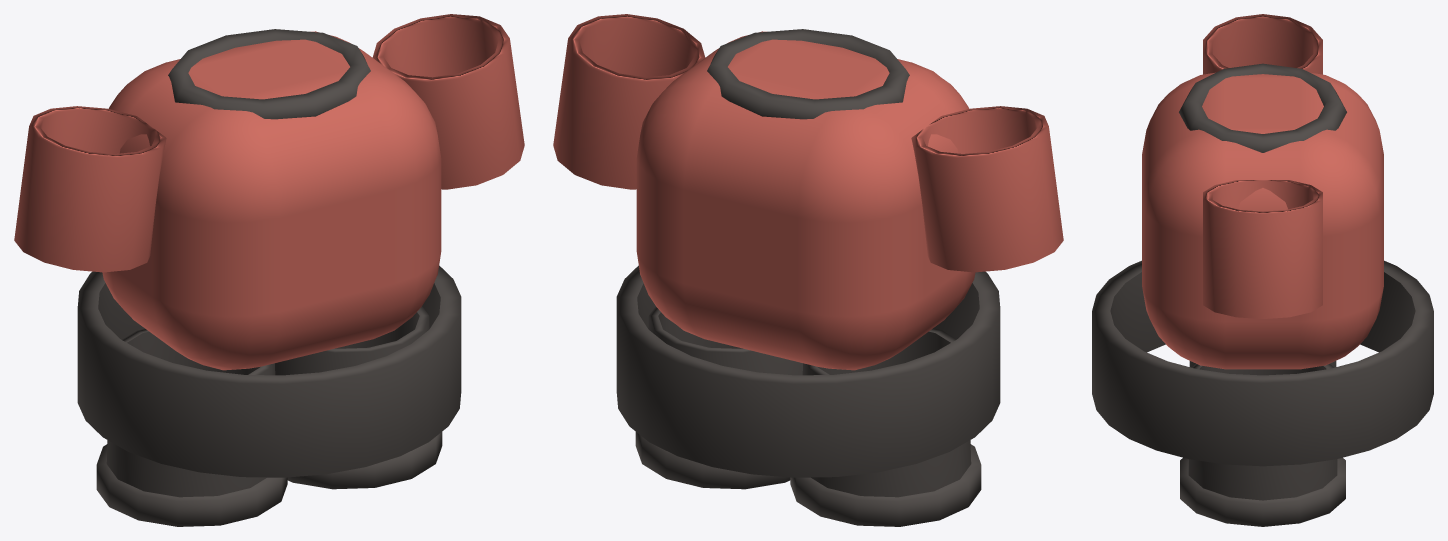
Rendered from athletic_outfit.glb.
3 views of the same model, side by side, from view 1: azimuth 30°, elevation 25°; view 2: azimuth 150°, elevation 25°; view 3: azimuth 270°, elevation 25° (orthographic). The views are drawn at different scales.
Parts seen in each view (by area): view 1: athletic_outfit_Body, athletic_outfit_ArmL, athletic_outfit_ArmR, athletic_outfit_LegL, athletic_outfit_LegR; view 2: athletic_outfit_Body, athletic_outfit_ArmL, athletic_outfit_ArmR, athletic_outfit_LegL, athletic_outfit_LegR; view 3: athletic_outfit_Body, athletic_outfit_ArmR, athletic_outfit_LegR, athletic_outfit_ArmL.
Boxes of the visible parts, left/top/right/bottom form: athletic_outfit_Body: left=77, top=29, right=461, bottom=477; athletic_outfit_ArmL: left=14, top=106, right=166, bottom=272; athletic_outfit_ArmR: left=372, top=14, right=524, bottom=189; athletic_outfit_LegL: left=96, top=328, right=287, bottom=526; athletic_outfit_LegR: left=275, top=306, right=442, bottom=489; athletic_outfit_Body: left=616, top=29, right=1000, bottom=477; athletic_outfit_ArmL: left=911, top=106, right=1063, bottom=272; athletic_outfit_ArmR: left=553, top=14, right=705, bottom=189; athletic_outfit_LegL: left=790, top=328, right=981, bottom=526; athletic_outfit_LegR: left=635, top=306, right=802, bottom=489; athletic_outfit_Body: left=1092, top=63, right=1433, bottom=466; athletic_outfit_ArmR: left=1203, top=180, right=1322, bottom=318; athletic_outfit_LegR: left=1180, top=363, right=1345, bottom=526; athletic_outfit_ArmL: left=1203, top=14, right=1322, bottom=74.
Bounding box in the file's own units: 0.6053 × 0.4709 × 0.41.
